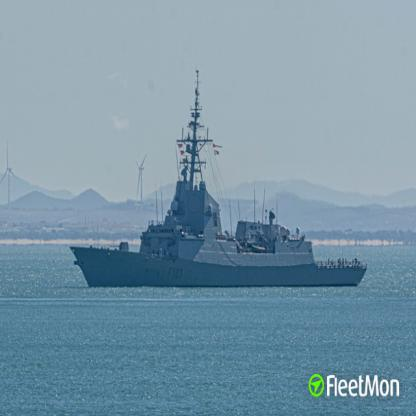Military Ship: (69, 70, 368, 288)
